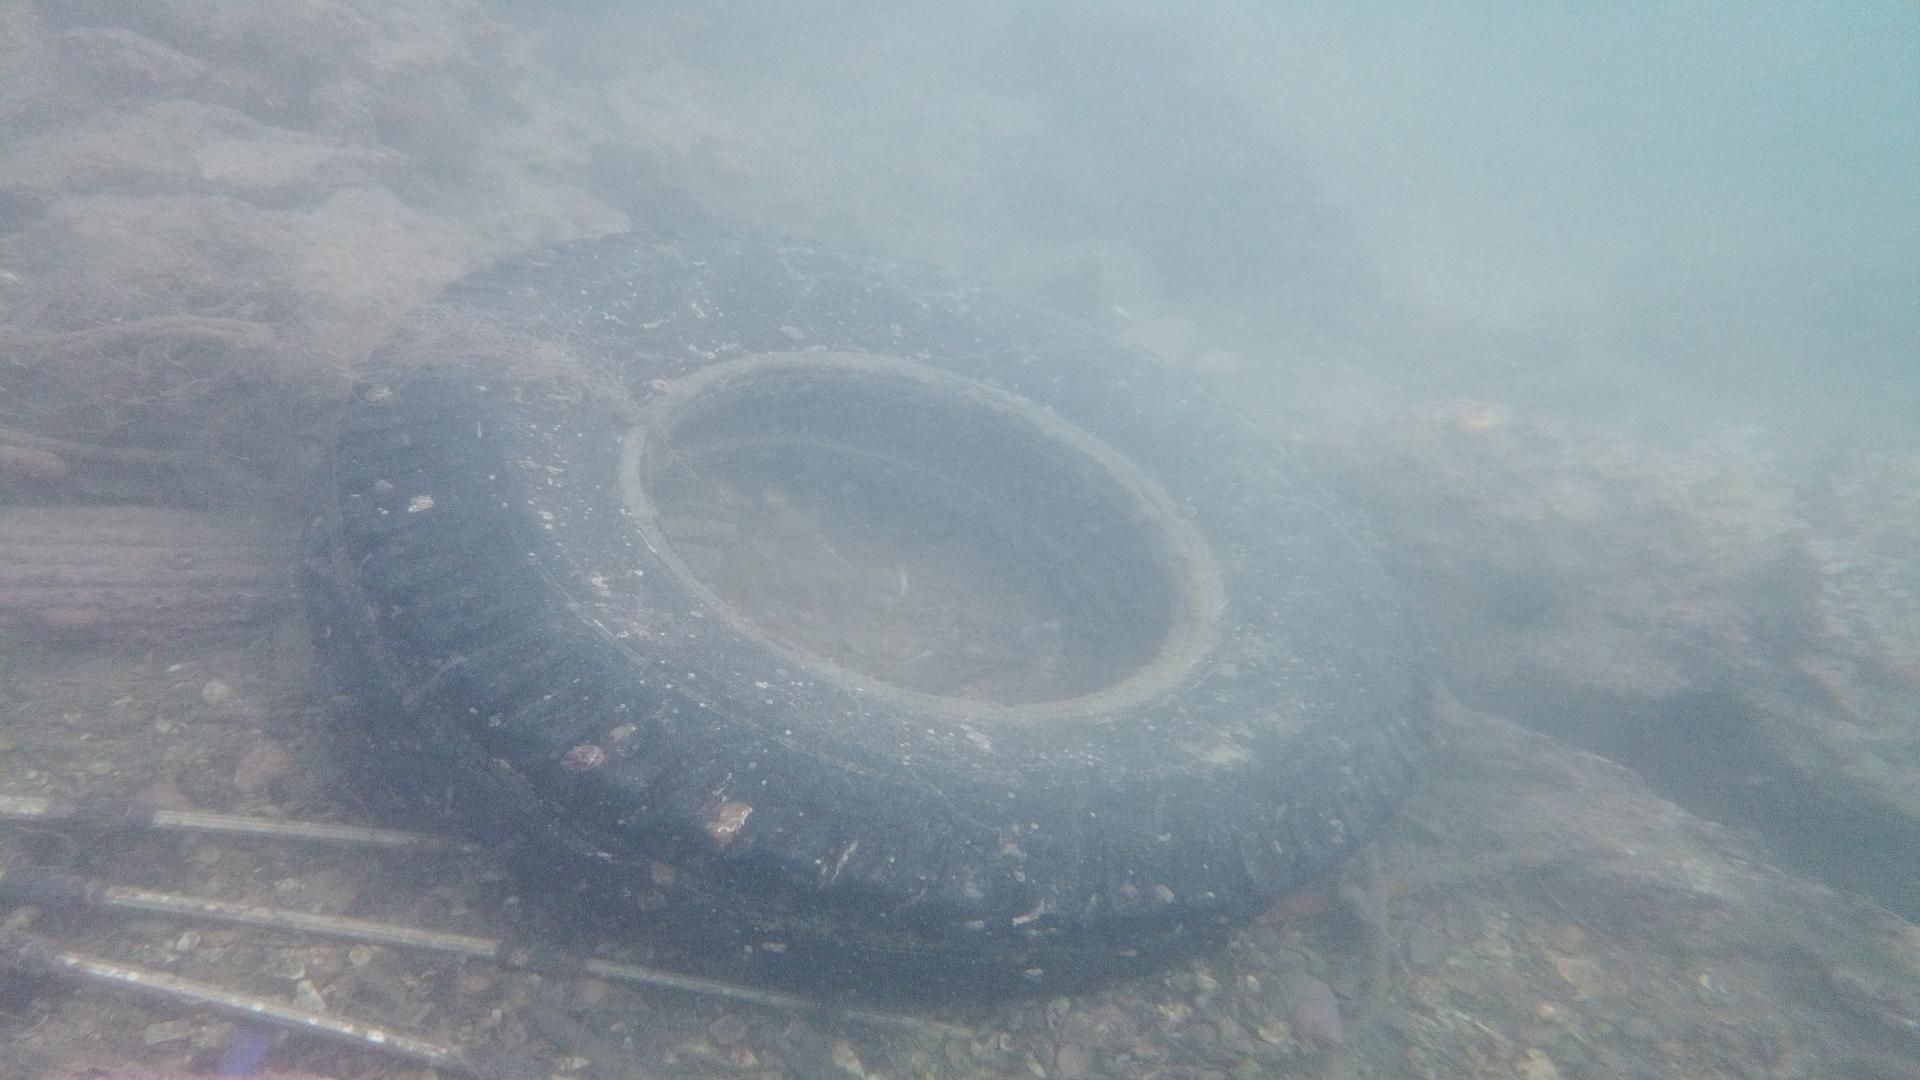tire: (345, 222, 1429, 1005)
